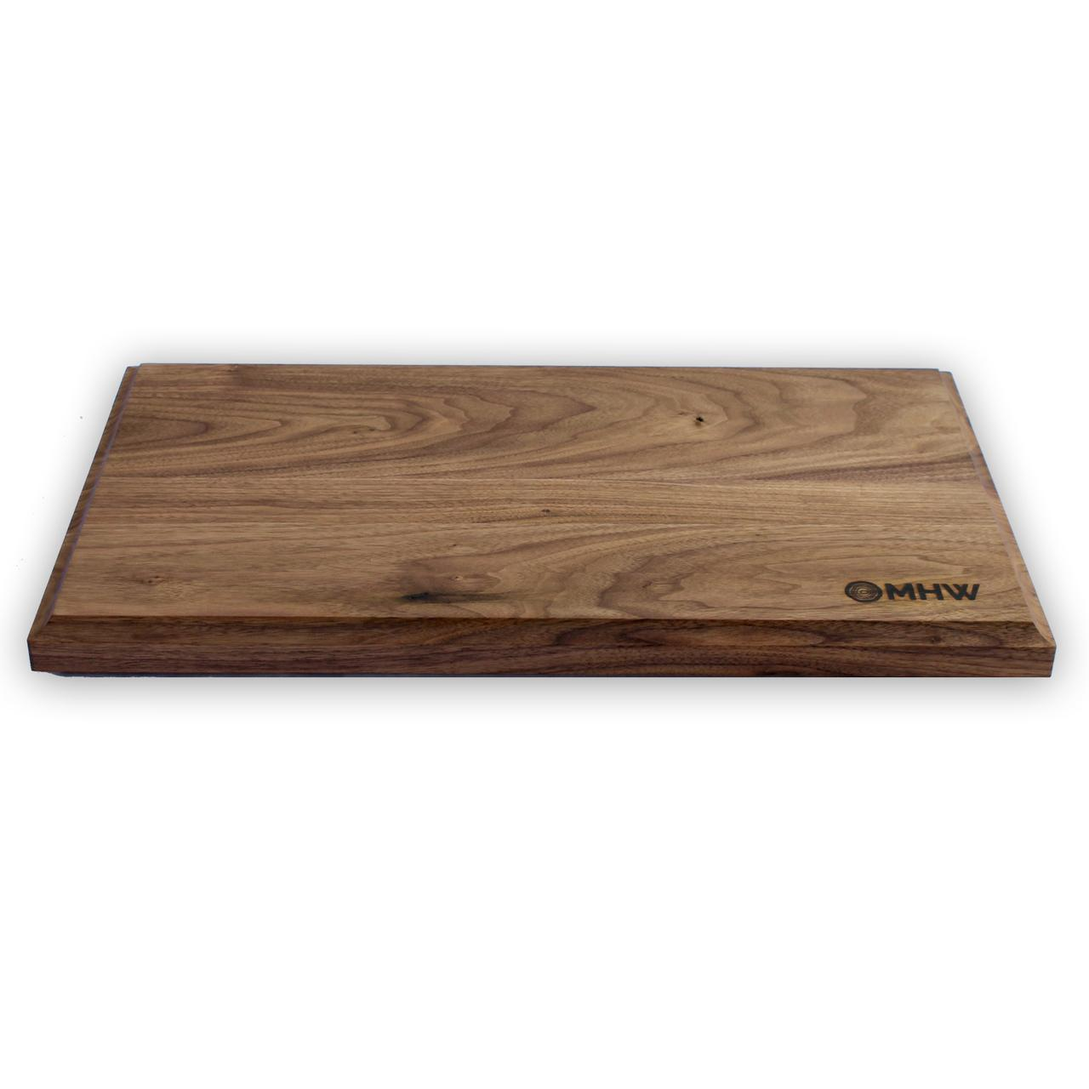gloved_hand: (20, 341, 1067, 698)
